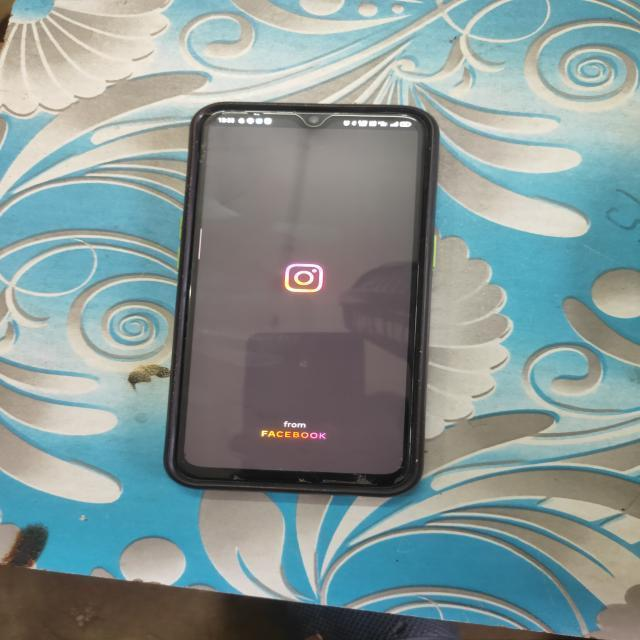Phone: (156, 95, 447, 508)
